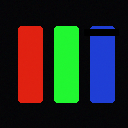3 line_h: (84, 29, 118, 35)
